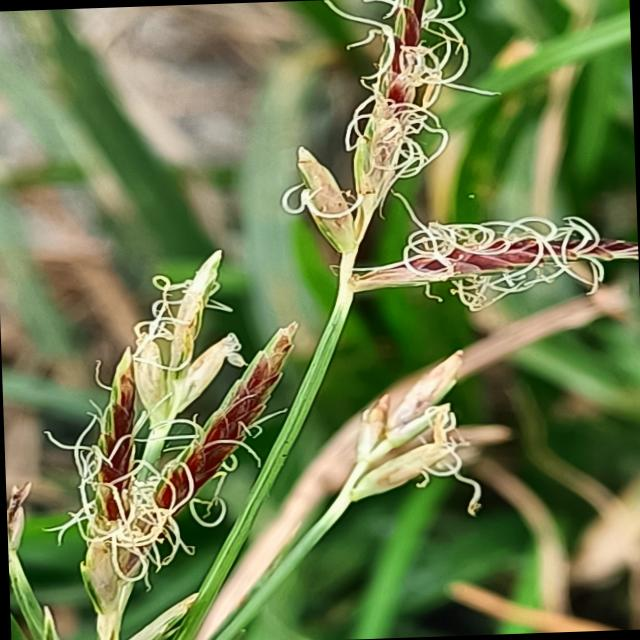cyperus: (14, 0, 636, 599), (274, 0, 621, 301), (26, 251, 324, 593)
